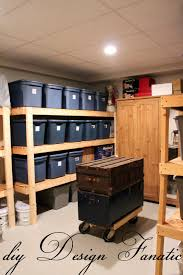Carts: (75, 204, 148, 244)
